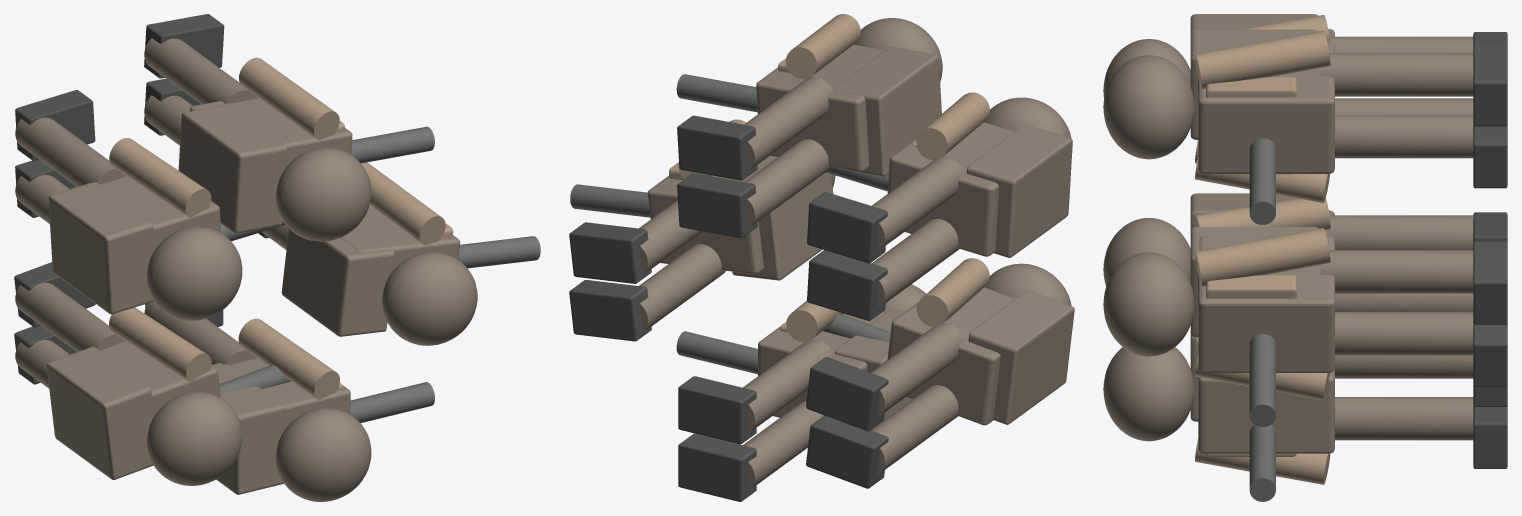
The model's file is d-u01-dominion-line-infantry-lod1.glb.
3 renders of one model, left to right at view 1: azimuth 30°, elevation 25°; view 2: azimuth 150°, elevation 25°; view 3: azimuth 270°, elevation 25°, orthographic. The views are drawn at different scales.
Parts seen in each view (by area): view 1: soldier_3_backpack, soldier_4_backpack, soldier_1_backpack, soldier_0_backpack, soldier_4_helmet, soldier_3_helmet, soldier_2_helmet, soldier_0_helmet, soldier_1_helmet, soldier_2_backpack, soldier_3_leg_1, soldier_1_leg_1 (+25 smaller); view 2: soldier_3_backpack, soldier_4_backpack, soldier_1_backpack, soldier_4_torso, soldier_3_torso, soldier_1_torso, soldier_4_boot_1, soldier_0_backpack, soldier_3_boot_1, soldier_2_boot_1, soldier_2_boot_-1, soldier_3_boot_-1 (+31 smaller); view 3: soldier_0_torso, soldier_1_torso, soldier_0_helmet, soldier_1_helmet, soldier_2_torso, soldier_2_helmet, soldier_0_leg_1, soldier_1_leg_1, soldier_0_leg_-1, soldier_1_leg_-1, soldier_2_leg_-1, soldier_4_leg_1 (+31 smaller).
Boxes of the visible parts, <box> form: soldier_3_backpack: <box>48,182,154,314</box>; soldier_4_backpack: <box>46,346,154,479</box>; soldier_1_backpack: <box>178,104,286,233</box>; soldier_0_backpack: <box>281,229,394,336</box>; soldier_4_helmet: <box>147,392,242,485</box>; soldier_3_helmet: <box>147,226,242,320</box>; soldier_2_helmet: <box>276,408,371,501</box>; soldier_0_helmet: <box>382,252,477,345</box>; soldier_1_helmet: <box>276,148,371,241</box>; soldier_2_backpack: <box>214,364,284,494</box>; soldier_3_leg_1: <box>15,117,126,186</box>; soldier_1_leg_1: <box>144,38,257,104</box>; soldier_3_backpack: <box>966,124,1072,257</box>; soldier_4_backpack: <box>968,290,1074,424</box>; soldier_1_backpack: <box>833,47,941,176</box>; soldier_4_torso: <box>887,287,1015,425</box>; soldier_3_torso: <box>887,122,1014,256</box>; soldier_1_torso: <box>756,44,885,171</box>; soldier_4_boot_1: <box>806,357,888,430</box>; soldier_0_backpack: <box>732,172,833,280</box>; soldier_3_boot_1: <box>807,192,887,263</box>; soldier_2_boot_1: <box>678,376,756,444</box>; soldier_2_boot_-1: <box>678,433,756,501</box>; soldier_3_boot_-1: <box>807,250,887,320</box>; soldier_0_torso: <box>1198,236,1334,372</box>; soldier_1_torso: <box>1198,40,1334,173</box>; soldier_0_helmet: <box>1103,252,1194,356</box>; soldier_1_helmet: <box>1103,55,1194,159</box>; soldier_2_torso: <box>1198,369,1334,453</box>; soldier_2_helmet: <box>1103,347,1194,441</box>; soldier_0_leg_1: <box>1320,250,1473,293</box>; soldier_1_leg_1: <box>1320,53,1473,96</box>; soldier_0_leg_-1: <box>1335,312,1473,355</box>; soldier_1_leg_-1: <box>1335,115,1473,158</box>; soldier_2_leg_-1: <box>1335,397,1473,440</box>; soldier_4_leg_1: <box>1325,215,1473,249</box>.
Size of what is drawn, in the model's own units: 3.06 by 2.57 by 2.13.
